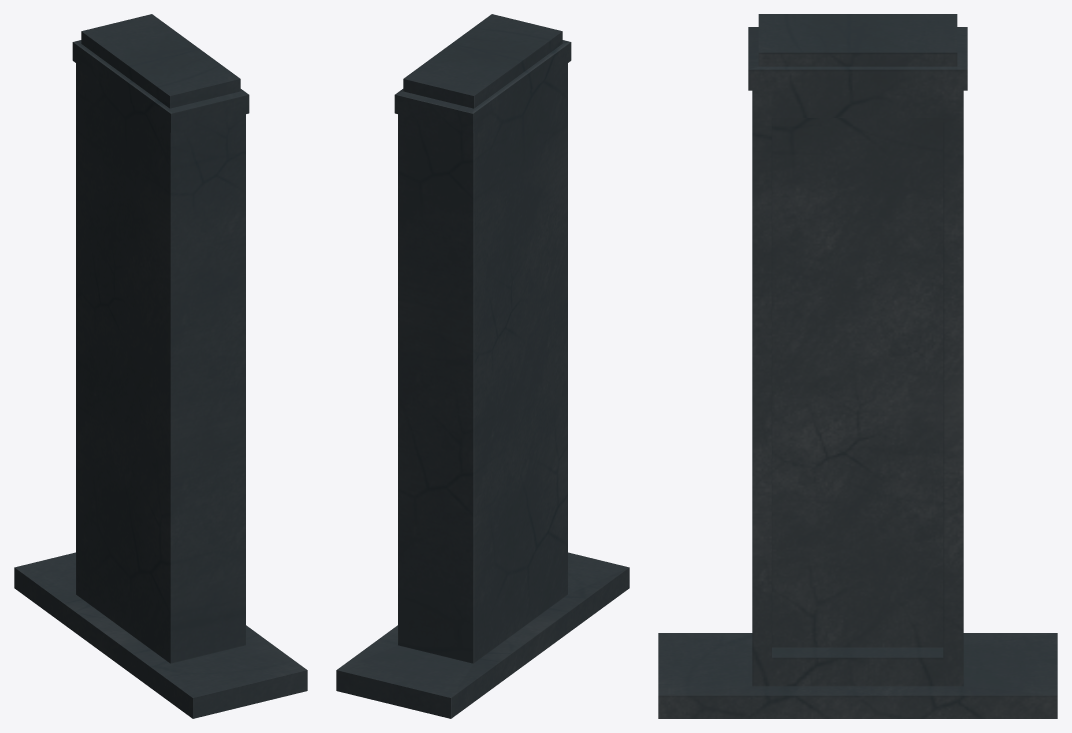
Rendered from Gravestone15_Model.fbx.
3 views of the same model, side by side, from view 1: azimuth 30°, elevation 25°; view 2: azimuth 150°, elevation 25°; view 3: azimuth 270°, elevation 25° (orthographic). The views are drawn at different scales.
Parts seen in each view (by area): view 1: Gravestone16; view 2: Gravestone16; view 3: Gravestone16.
Part boxes in pixels (x1,y1,x2,y2): Gravestone16: (14,14,307,718); Gravestone16: (336,14,629,718); Gravestone16: (658,14,1057,718).
Bounding box in the file's own units: 15.11 × 73.67 × 40.77.
